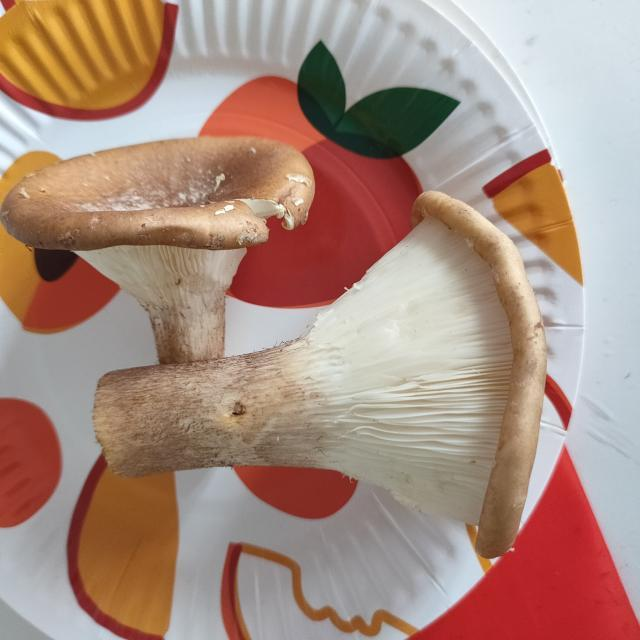Clitocybe maxima: (91, 195, 547, 559), (4, 139, 314, 356)
